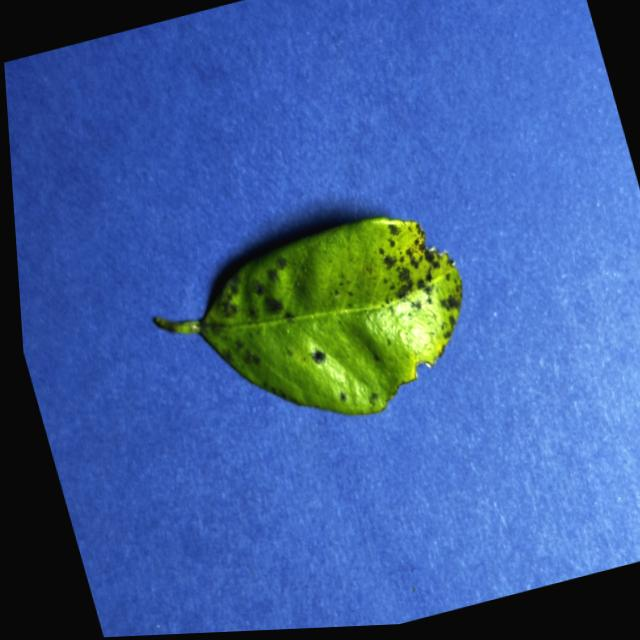sooty_mold: (155, 215, 461, 413)
